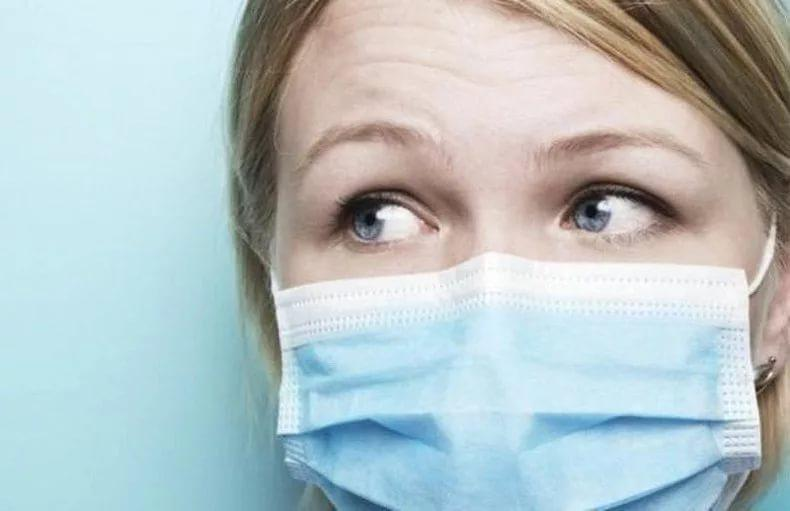mask: (263, 26, 776, 511)
